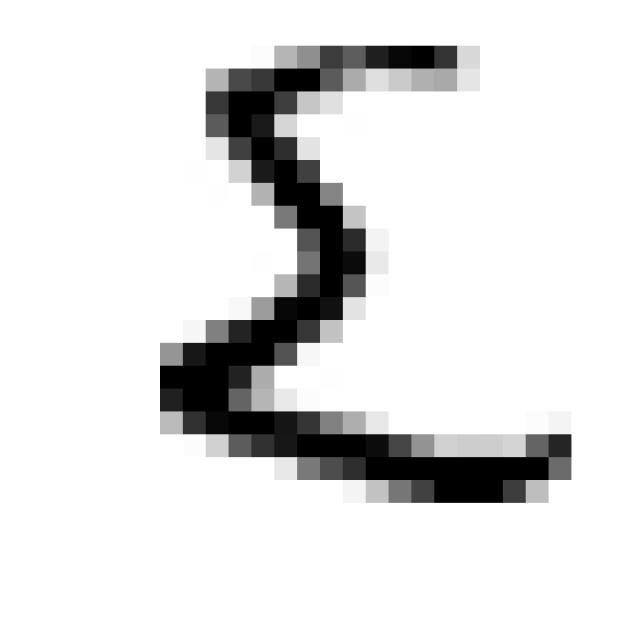4 -four-: (135, 16, 596, 528)
